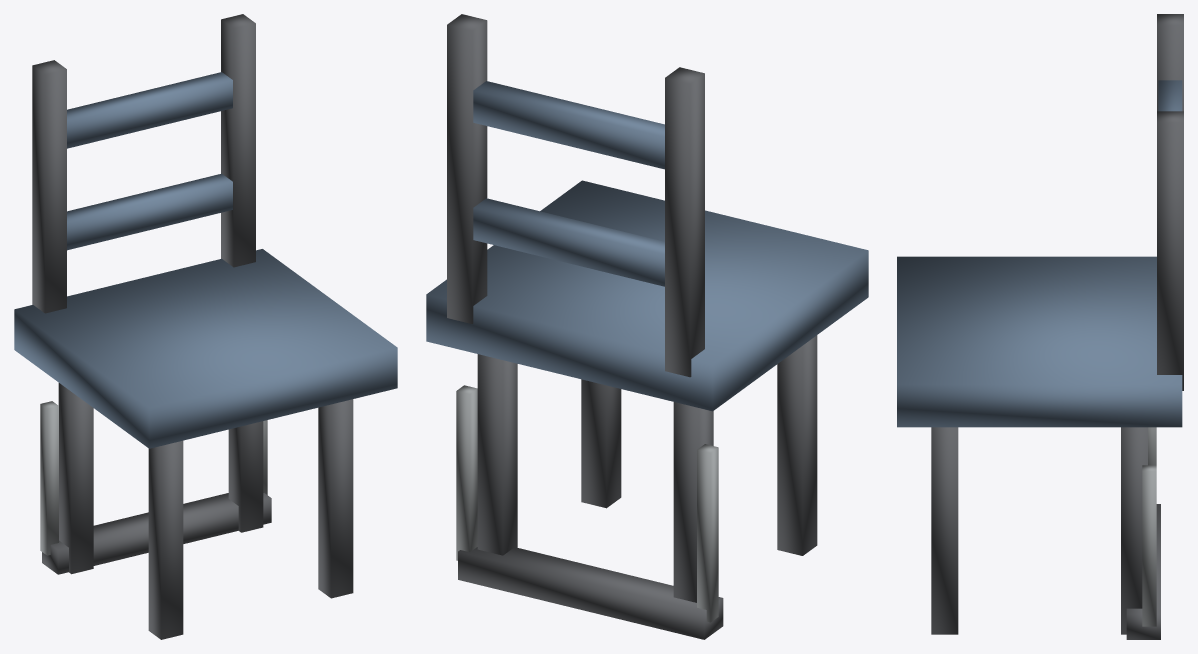
Rendered from jury_chair__reinforced.glb.
3 renders of one model, left to right at view 1: azimuth 30°, elevation 25°; view 2: azimuth 150°, elevation 25°; view 3: azimuth 270°, elevation 25°, orthographic. The views are drawn at different scales.
Visible parts, largest first — view 1: world; view 2: world; view 3: world.
Boxes of the visible parts, <box> form: world: <box>14,14,397,639</box>; world: <box>426,14,868,639</box>; world: <box>897,14,1183,639</box>.
Size of the model in its own units: 0.5217 by 0.9824 by 0.494.
